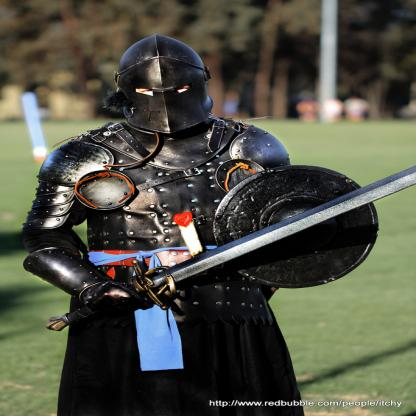Helmet: (110, 34, 224, 138)
